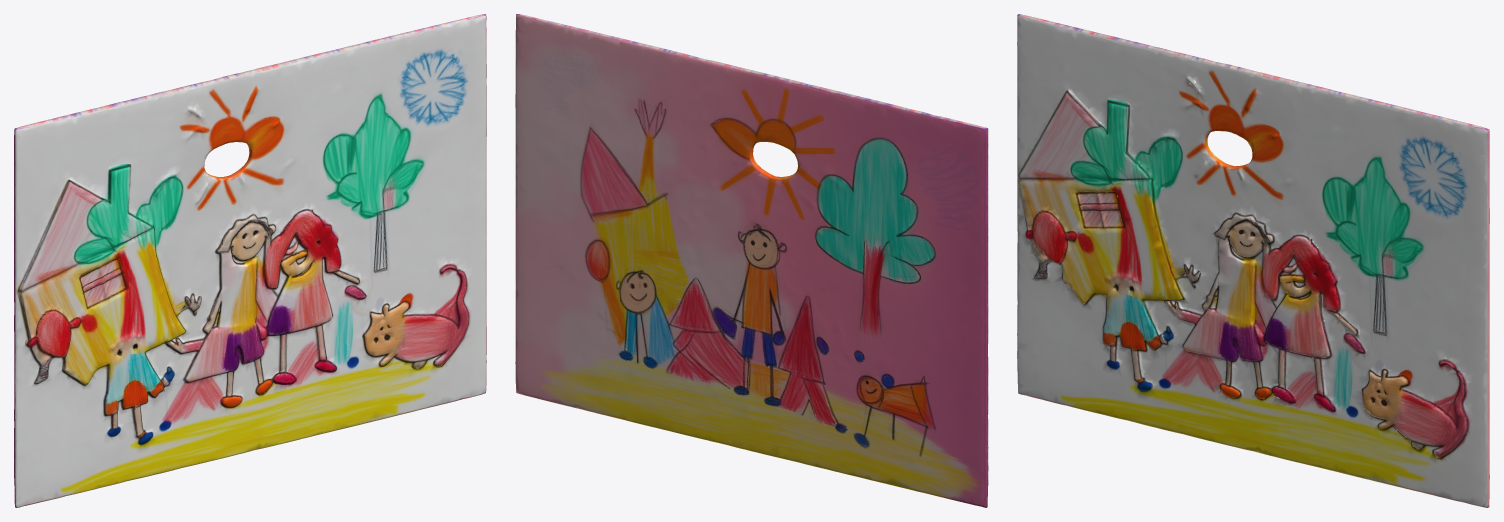
File: 019a7bca-b353-7a78-ac09-06323d17be48.glb
3 views of the same model, side by side, from view 1: azimuth 30°, elevation 25°; view 2: azimuth 150°, elevation 25°; view 3: azimuth 330°, elevation 25° (orthographic).
Size of the model in its own units: 1.91 by 1.47 by 0.0456.
1 material, 1 textured.
